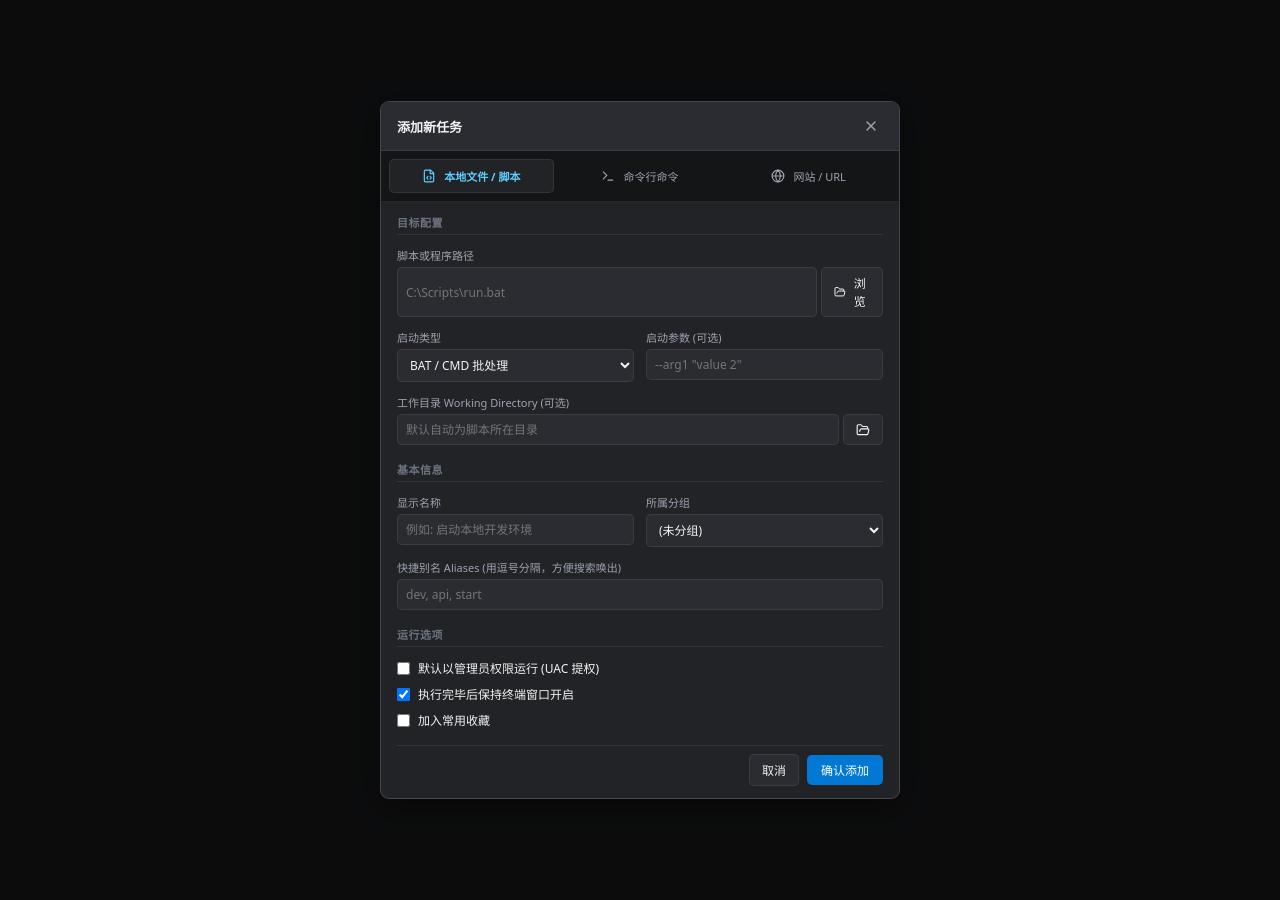
Test: TaskEditorDialog › switches between categories and shows relevant fields
Click the button "命令行命令".
click(640, 176)  # box [558,159,722,193]
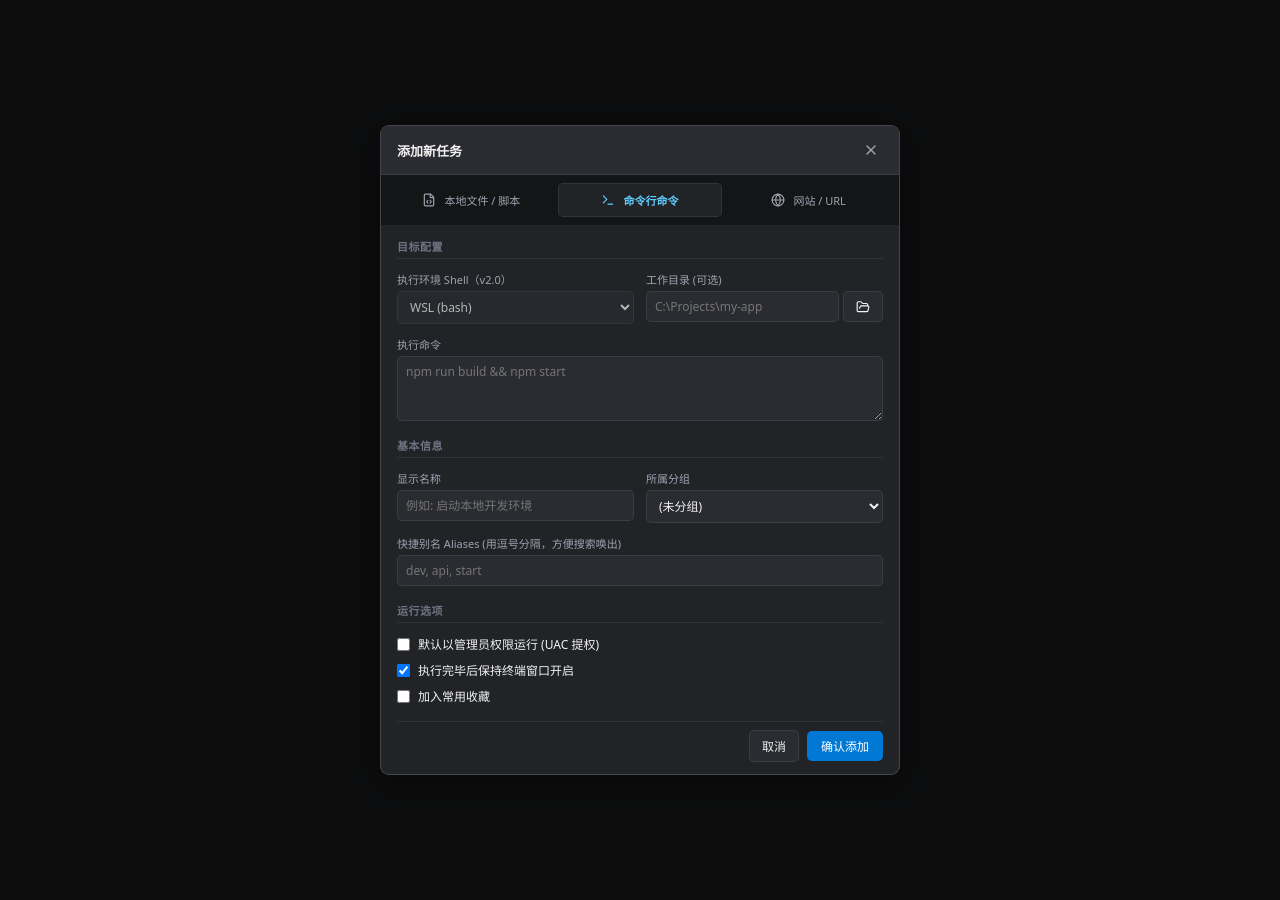
Check: the option "CMD" is not shown
Check: the text "执行环境 Shell（v2.0）" is shown, box [397,272,512,287]
Check: the text box with placeholder "npm run build && npm start" is shown, box [397,356,883,421]
Click the button "网站 / URL".
click(809, 200)  # box [726,183,891,217]
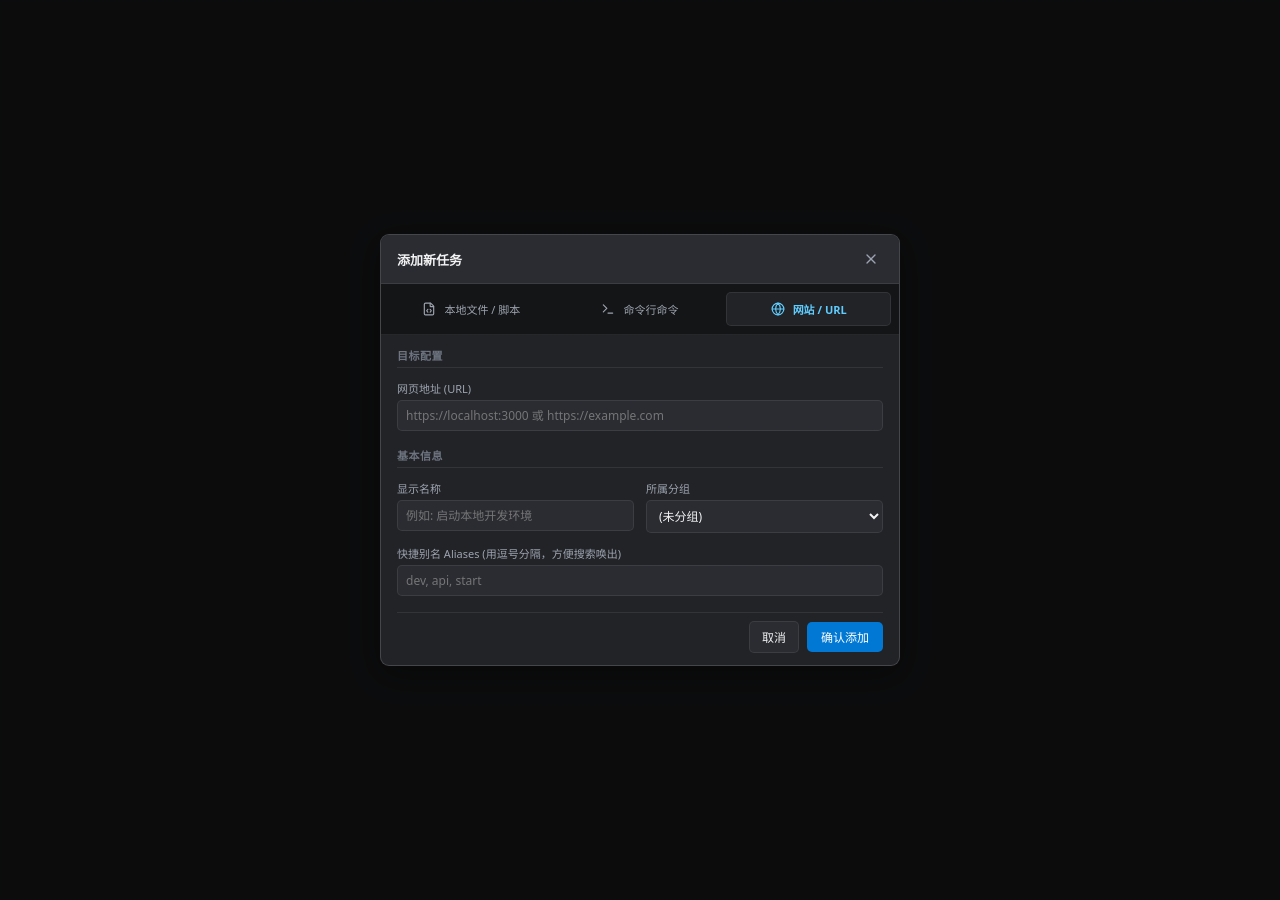
Check: the field with placeholder "https://localhost:3000 或 https://example.com" is shown, box [397,400,883,431]
